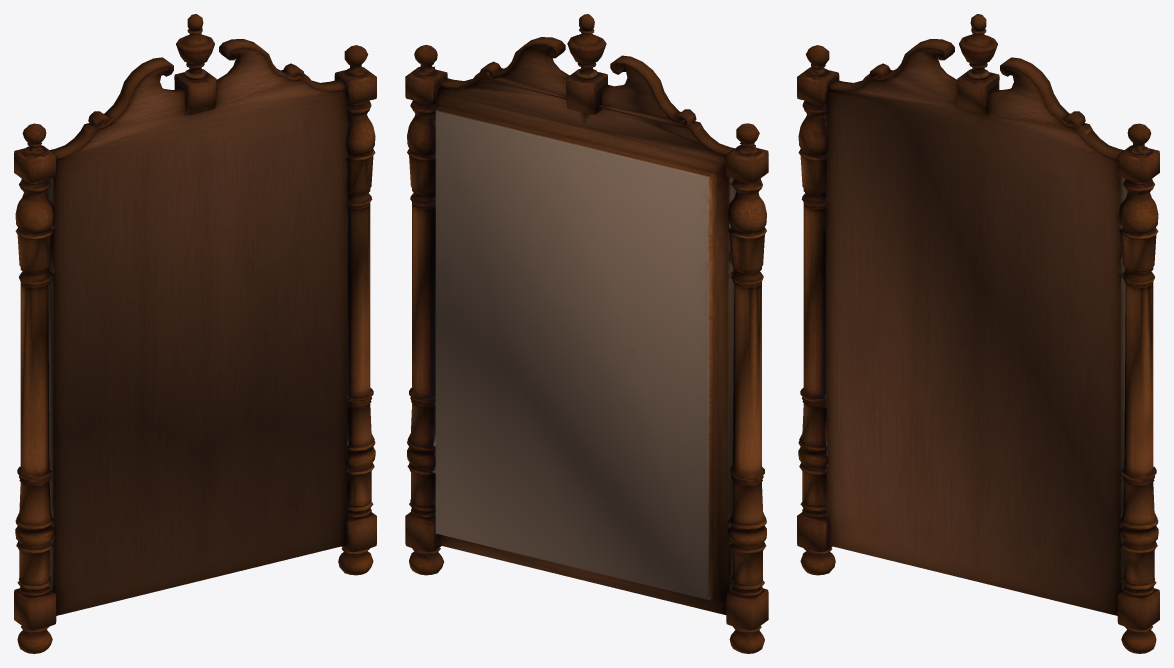
File: fixture-mirror-aged.glb
3 renders of one model, left to right at view 1: azimuth 30°, elevation 25°; view 2: azimuth 150°, elevation 25°; view 3: azimuth 330°, elevation 25°, orthographic.
Parts seen in each view (by area): view 1: tripo_node_612d12f4-a16a-4cba-9463-0eb848d1ba43; view 2: tripo_node_612d12f4-a16a-4cba-9463-0eb848d1ba43; view 3: tripo_node_612d12f4-a16a-4cba-9463-0eb848d1ba43.
Boxes of the visible parts, x1,y1,x2,y2 form: tripo_node_612d12f4-a16a-4cba-9463-0eb848d1ba43: [14, 14, 376, 653]; tripo_node_612d12f4-a16a-4cba-9463-0eb848d1ba43: [405, 14, 768, 653]; tripo_node_612d12f4-a16a-4cba-9463-0eb848d1ba43: [797, 14, 1159, 653].
Bounding box in the file's own units: 0.5 × 0.8 × 0.06.
Materials: 1 (1 with a texture image).
